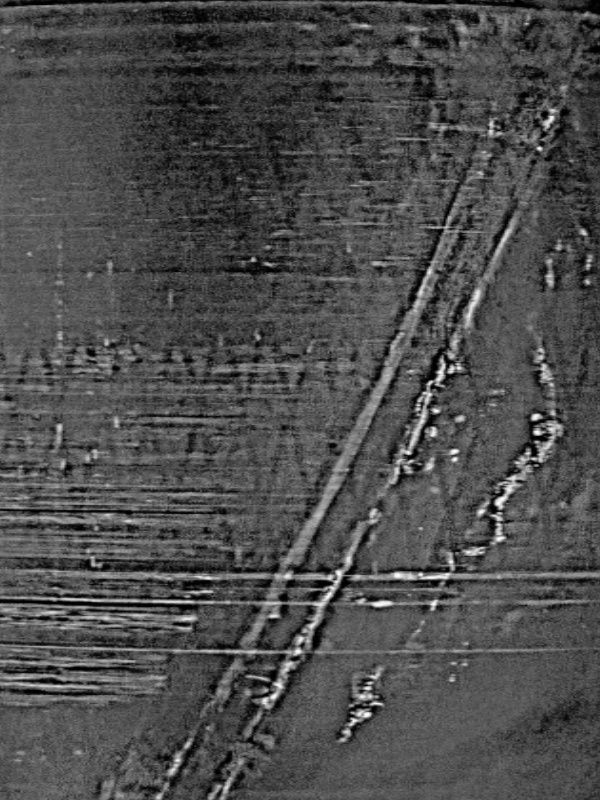splice_vulcanized: (96, 14, 584, 799)
